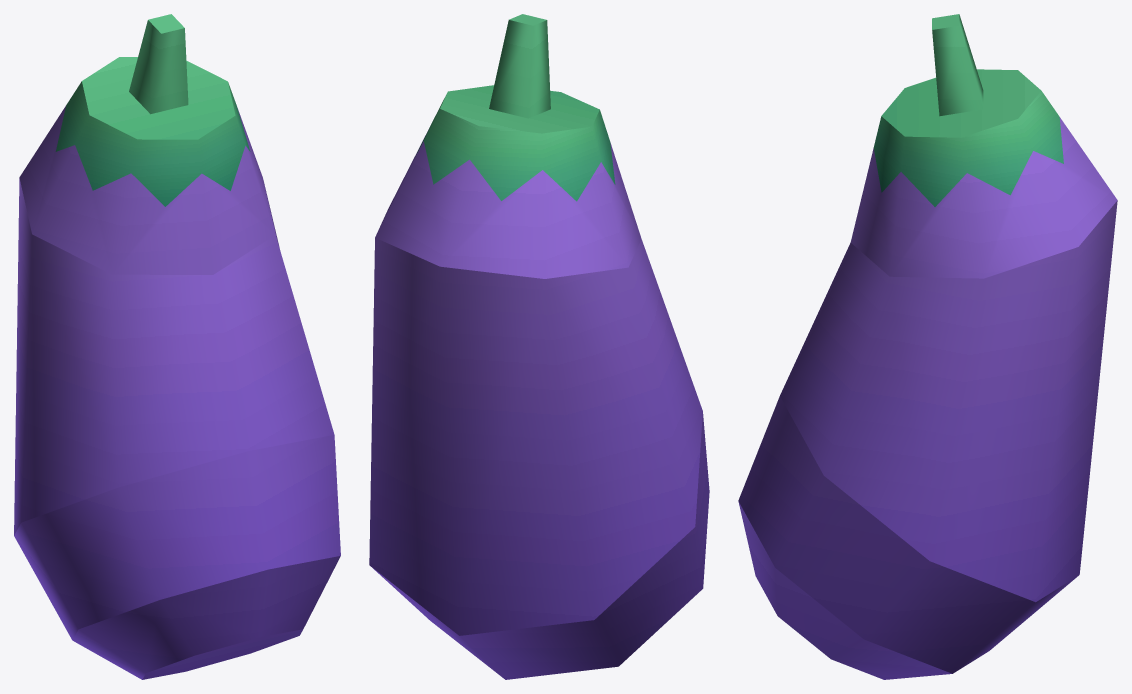
The model's file is eggplant.bc39506c6a.glb.
The picture shows the model from 3 angles, left to right: view 1: azimuth 30°, elevation 25°; view 2: azimuth 150°, elevation 25°; view 3: azimuth 270°, elevation 25°; orthographic projection. The views are drawn at different scales.
Visible parts, largest first — view 1: eggplant; view 2: eggplant; view 3: eggplant.
Part boxes in pixels (<box>): eggplant: <box>14,14,340,679</box>; eggplant: <box>369,14,709,679</box>; eggplant: <box>738,14,1117,679</box>.
Size of the model in its own units: 0.2041 by 0.4052 by 0.2155.
Materials: 1 (1 with a texture image).
